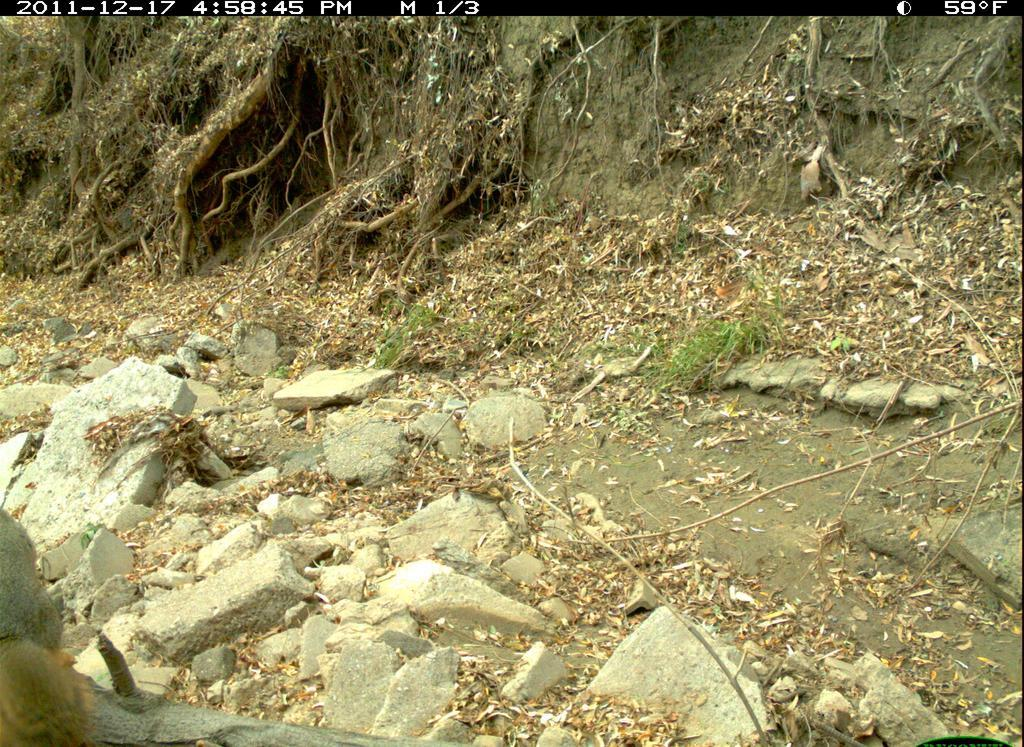squirrel: (2, 505, 99, 747)
